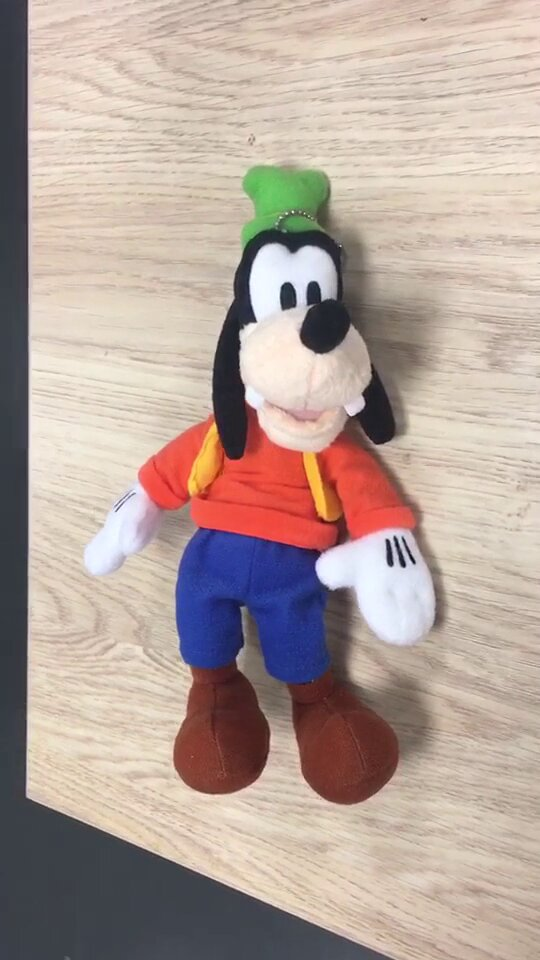goofy: (78, 162, 442, 805)
